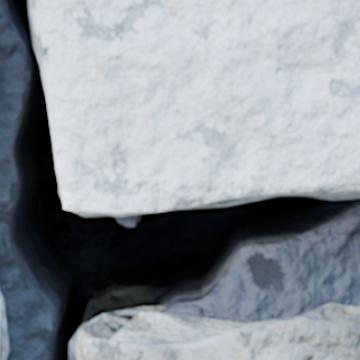brick: (30, 0, 359, 216), (72, 303, 359, 359), (0, 293, 8, 359)
crack: (2, 0, 359, 359)
